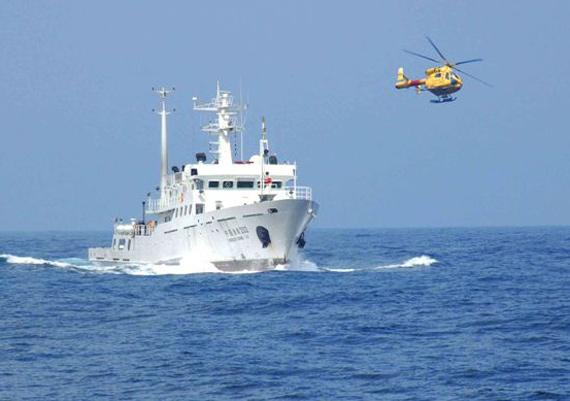airplane: (382, 42, 487, 104)
warship: (72, 72, 322, 274)
